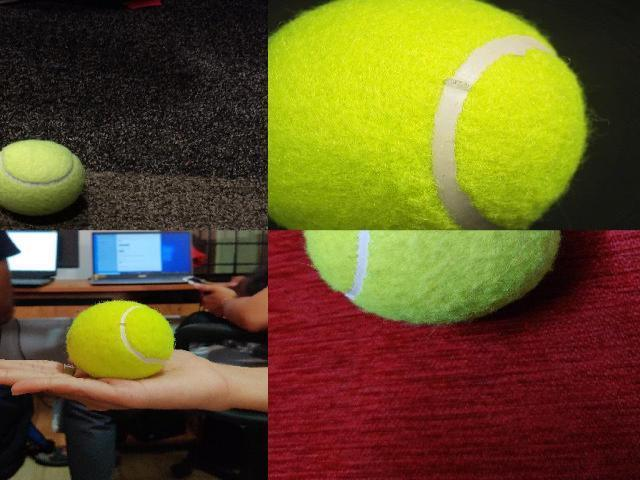tennis-ball: (268, 0, 588, 230), (301, 230, 562, 324), (68, 300, 173, 376), (0, 138, 87, 217)
